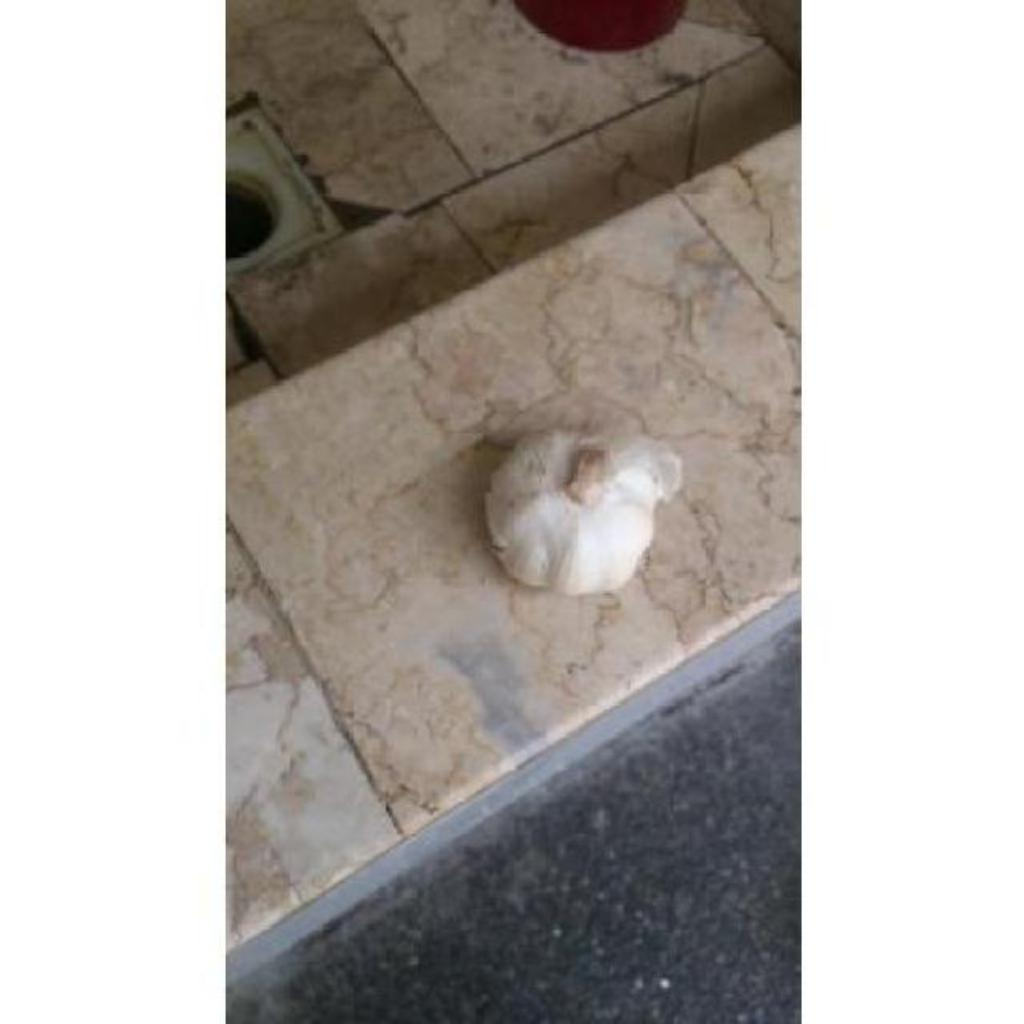garlic: (486, 434, 682, 595)
